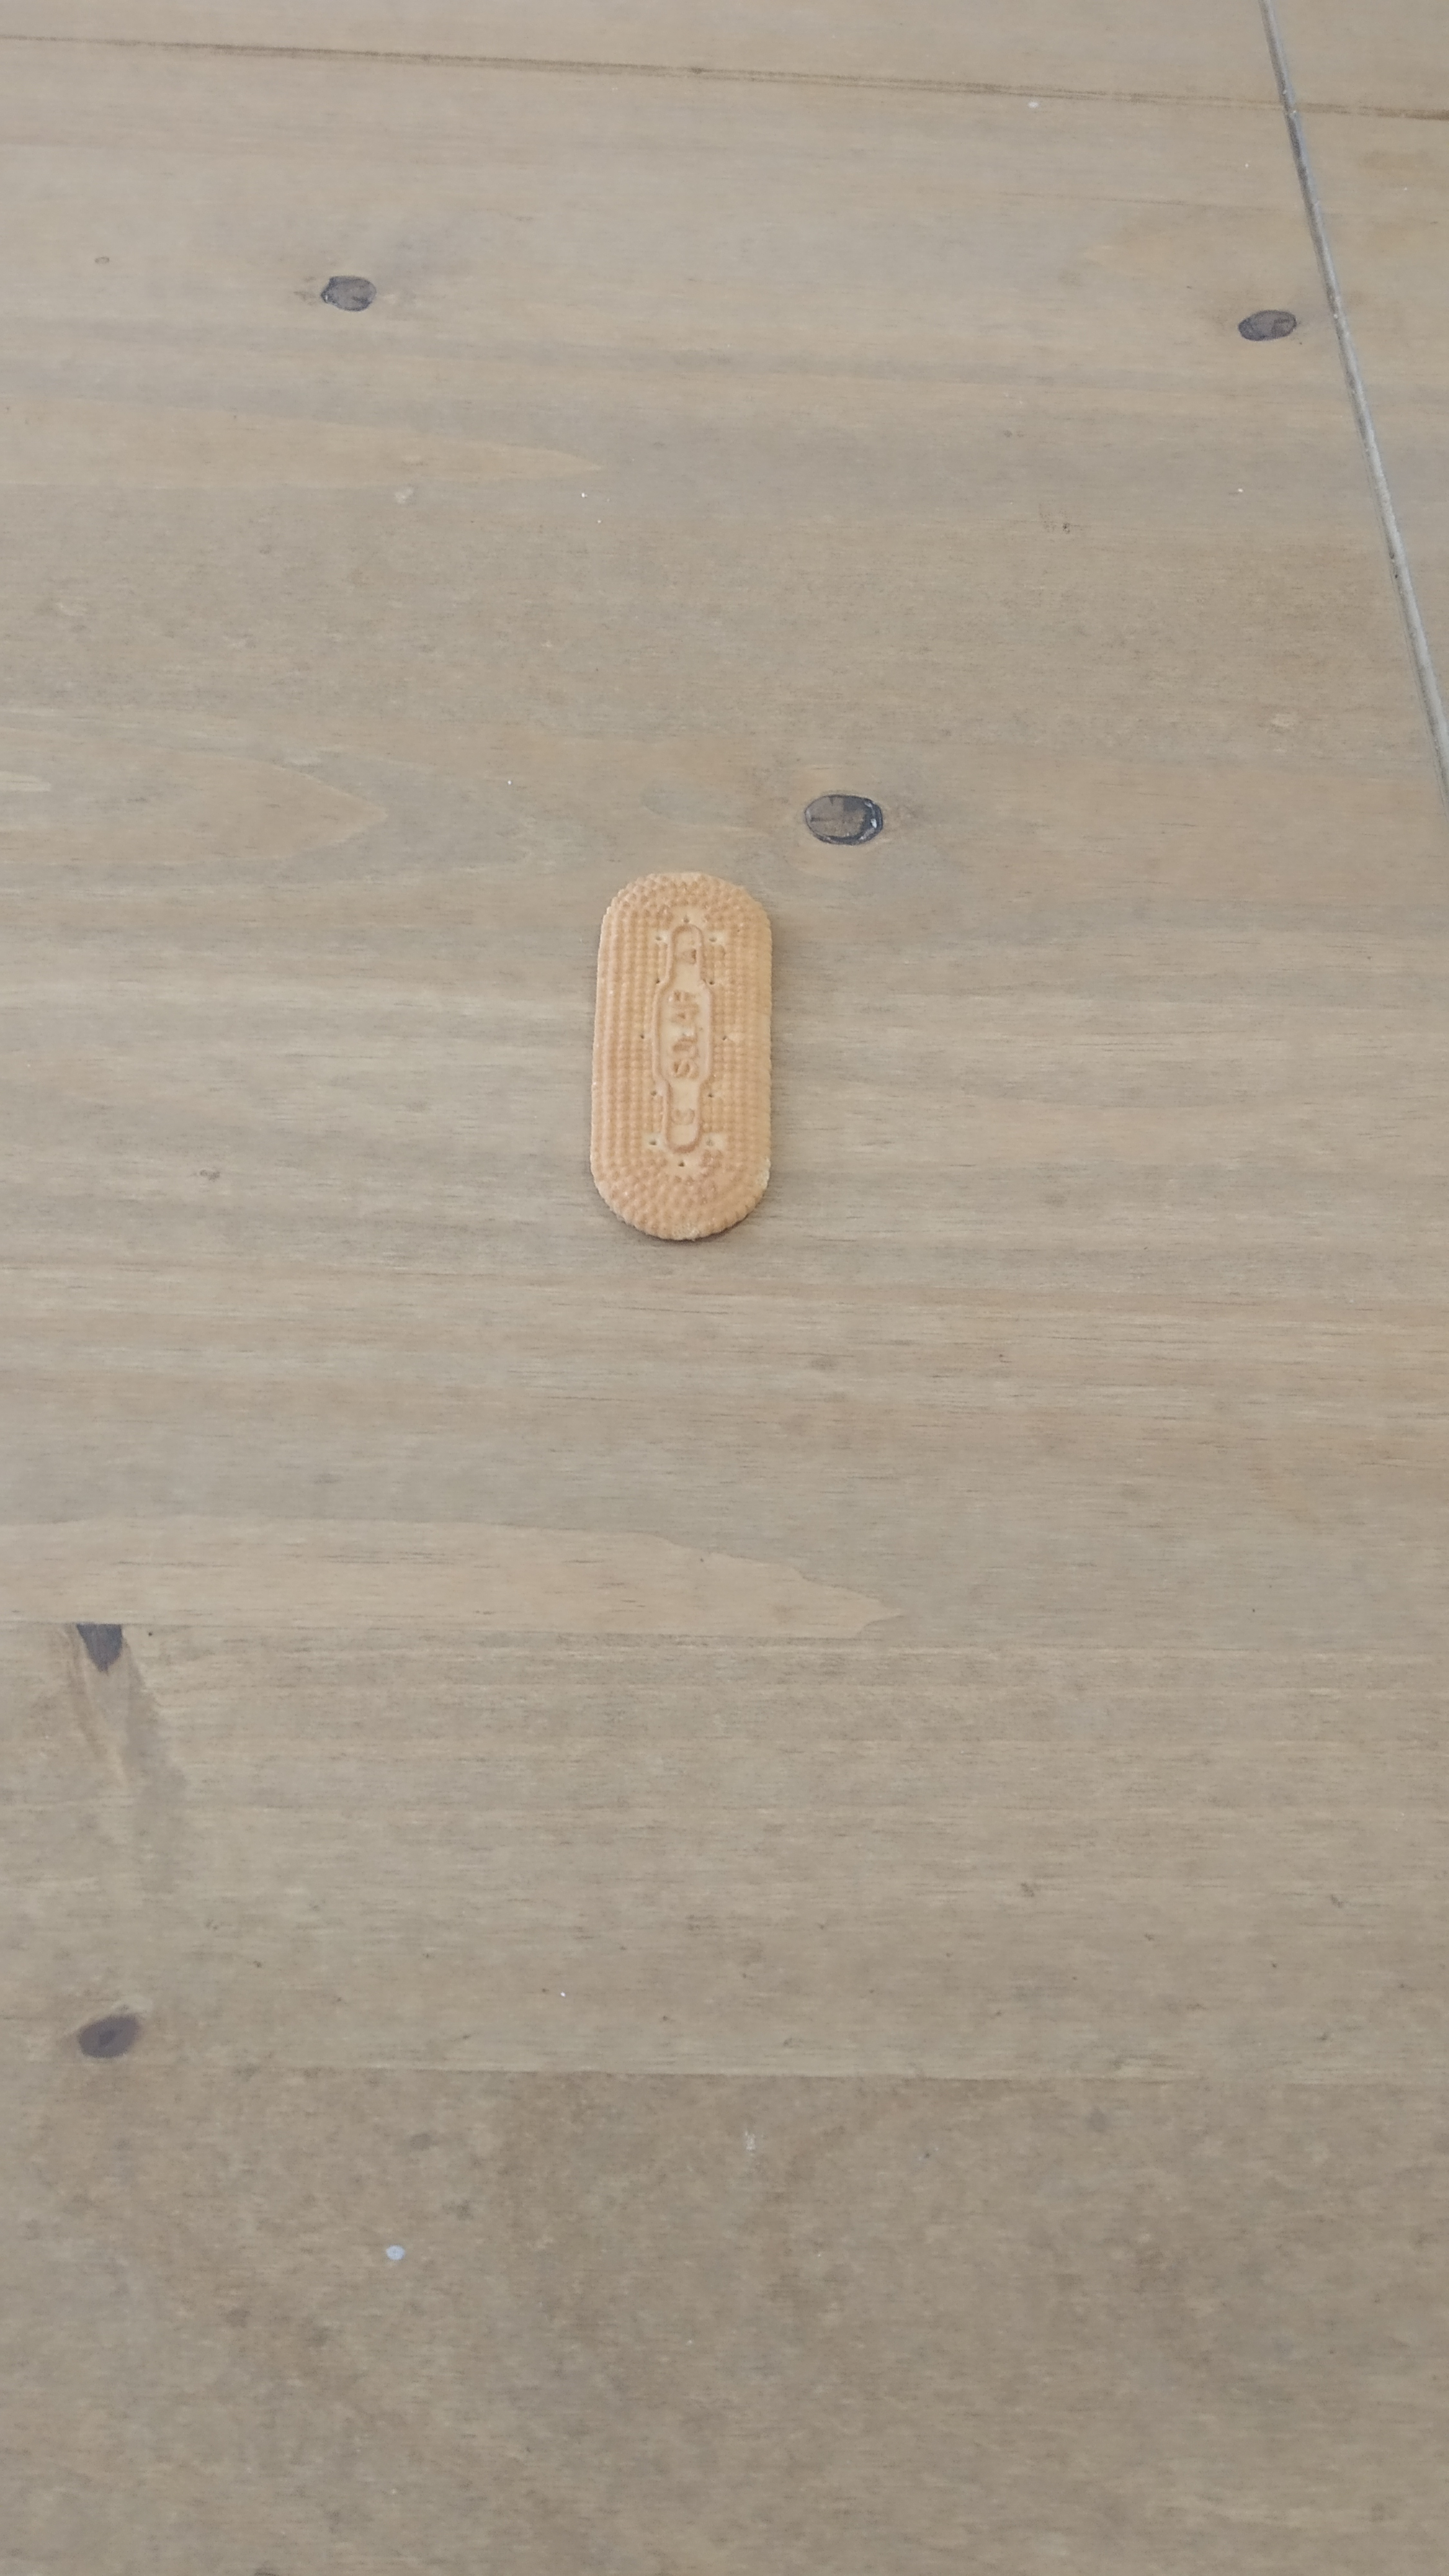solar: (589, 872, 773, 1240)
